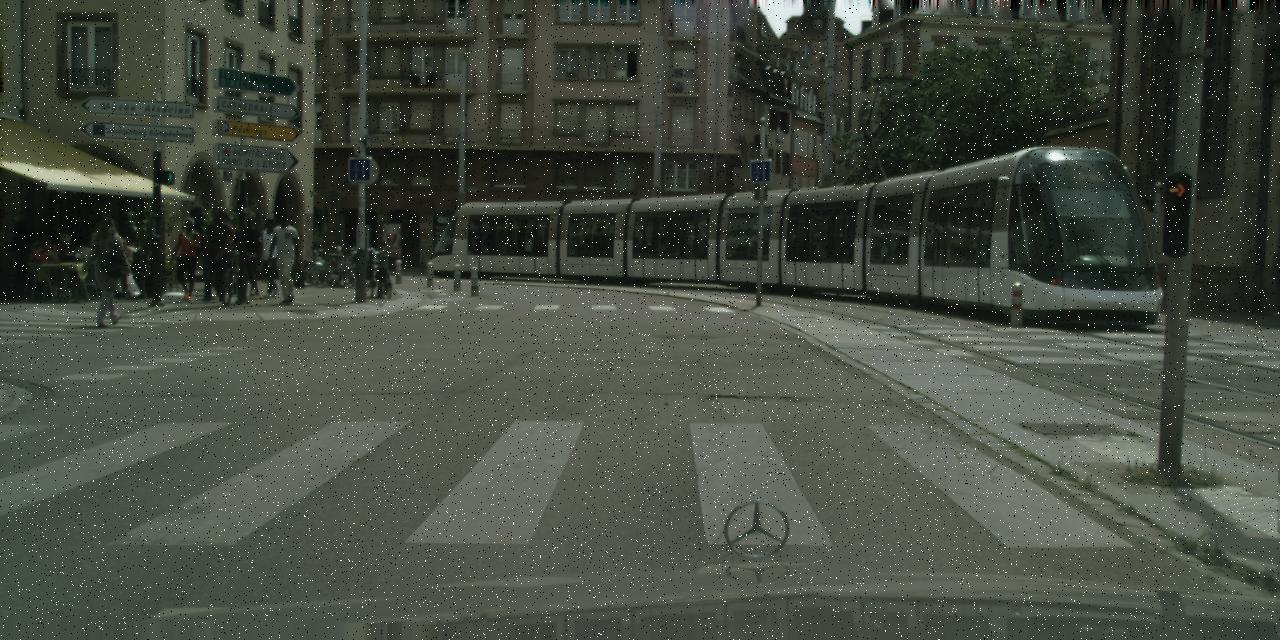ped: (86, 217, 131, 327), (266, 211, 304, 305), (197, 208, 235, 300), (204, 213, 239, 298), (169, 216, 204, 301), (255, 218, 287, 298), (228, 218, 260, 296)
